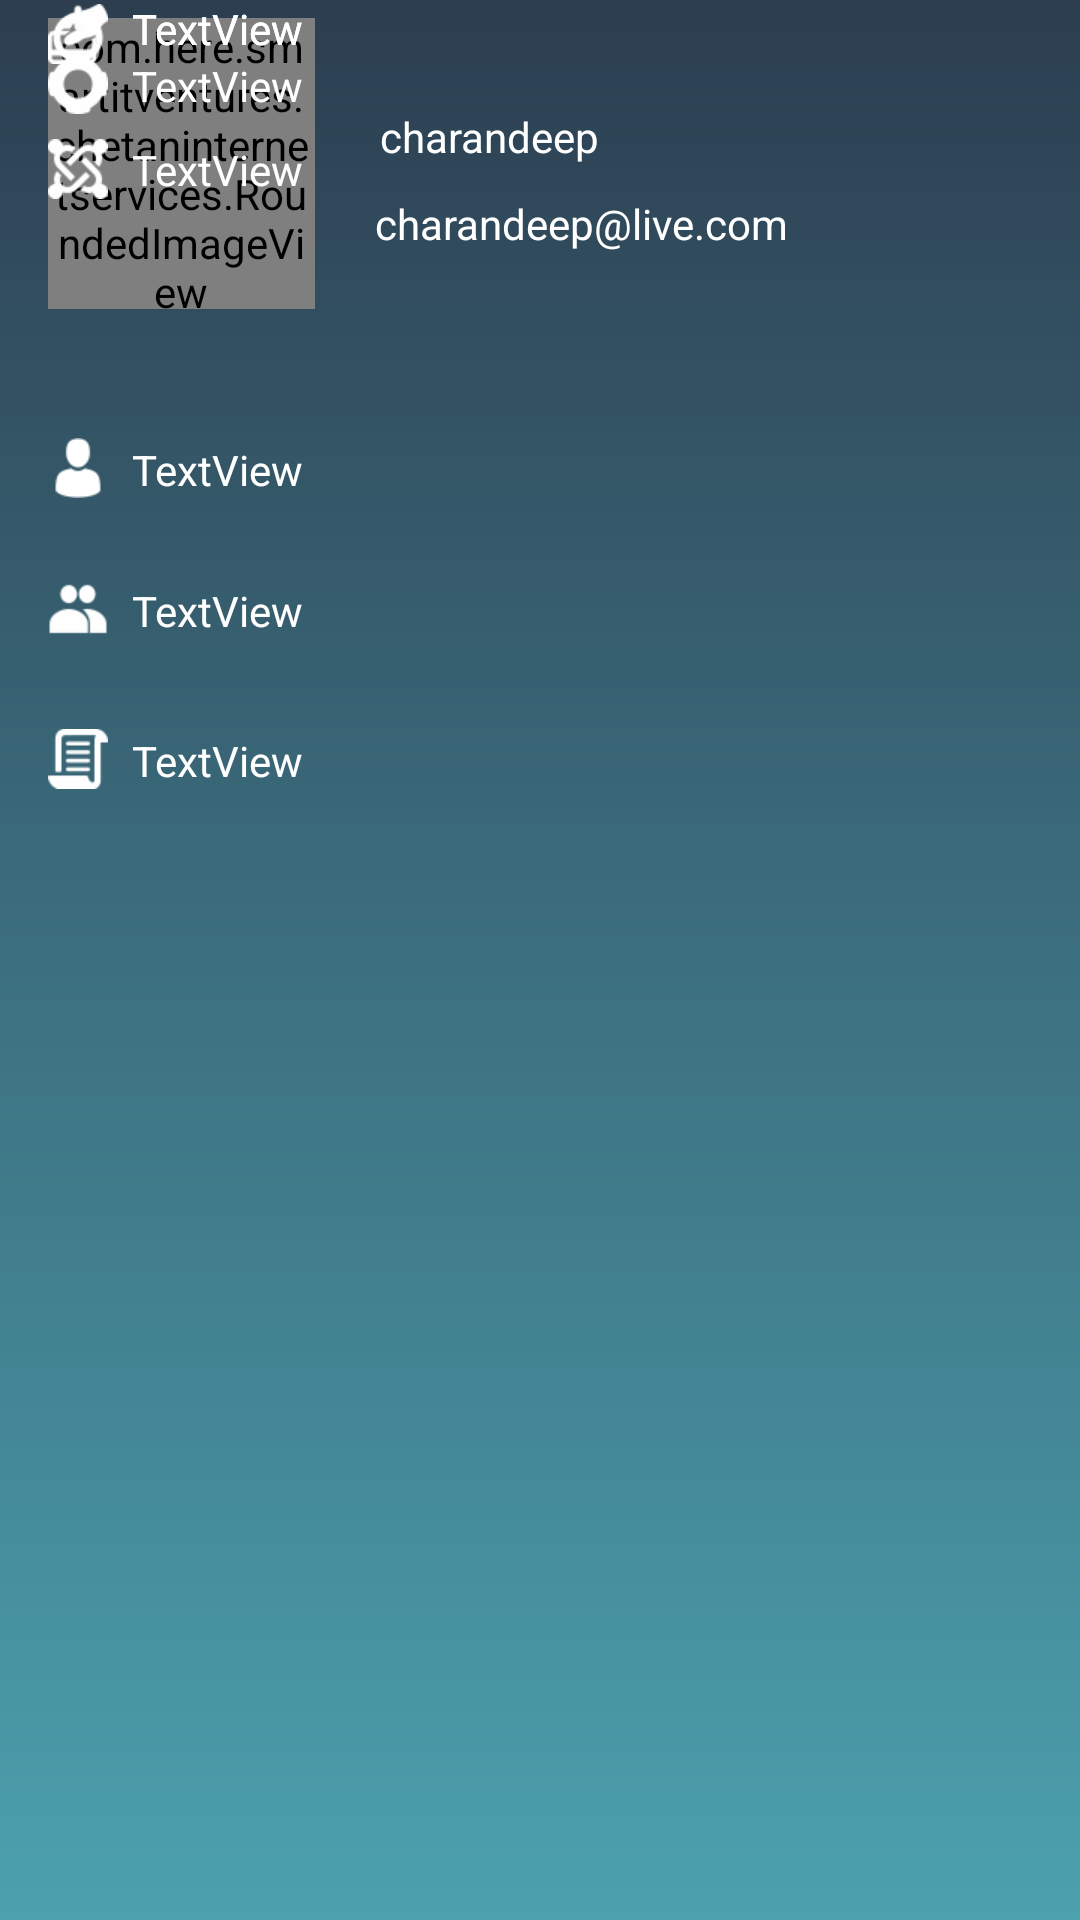

Icon bounding boxes for this 1080w x 1920h phone screenshot, format detection(x1, y1, x2, y2):
bil: detection(48, 729, 108, 789)
user: detection(55, 438, 101, 498)
